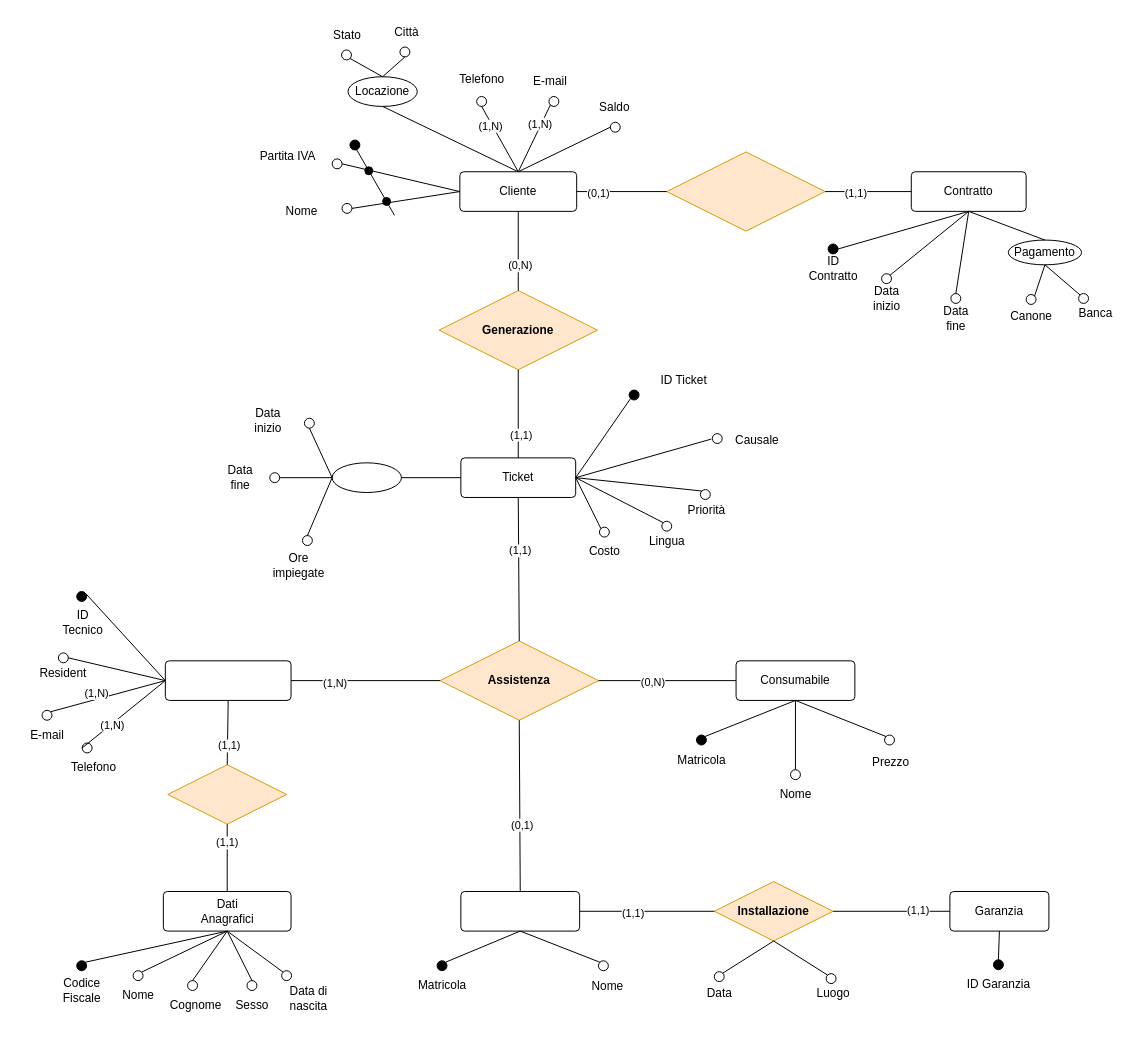
The diagram is 1141 pixels wide and 1037 high, and some of its shapes have lost their labels. Each missing label, with the box of its shape:
Datazione: (331, 462, 401, 493)
Dati Lavorativi: (164, 660, 291, 700)
Dati Tecnico: (167, 764, 287, 824)
Macchinario: (460, 891, 580, 931)
Stipulazione: (666, 151, 825, 231)
